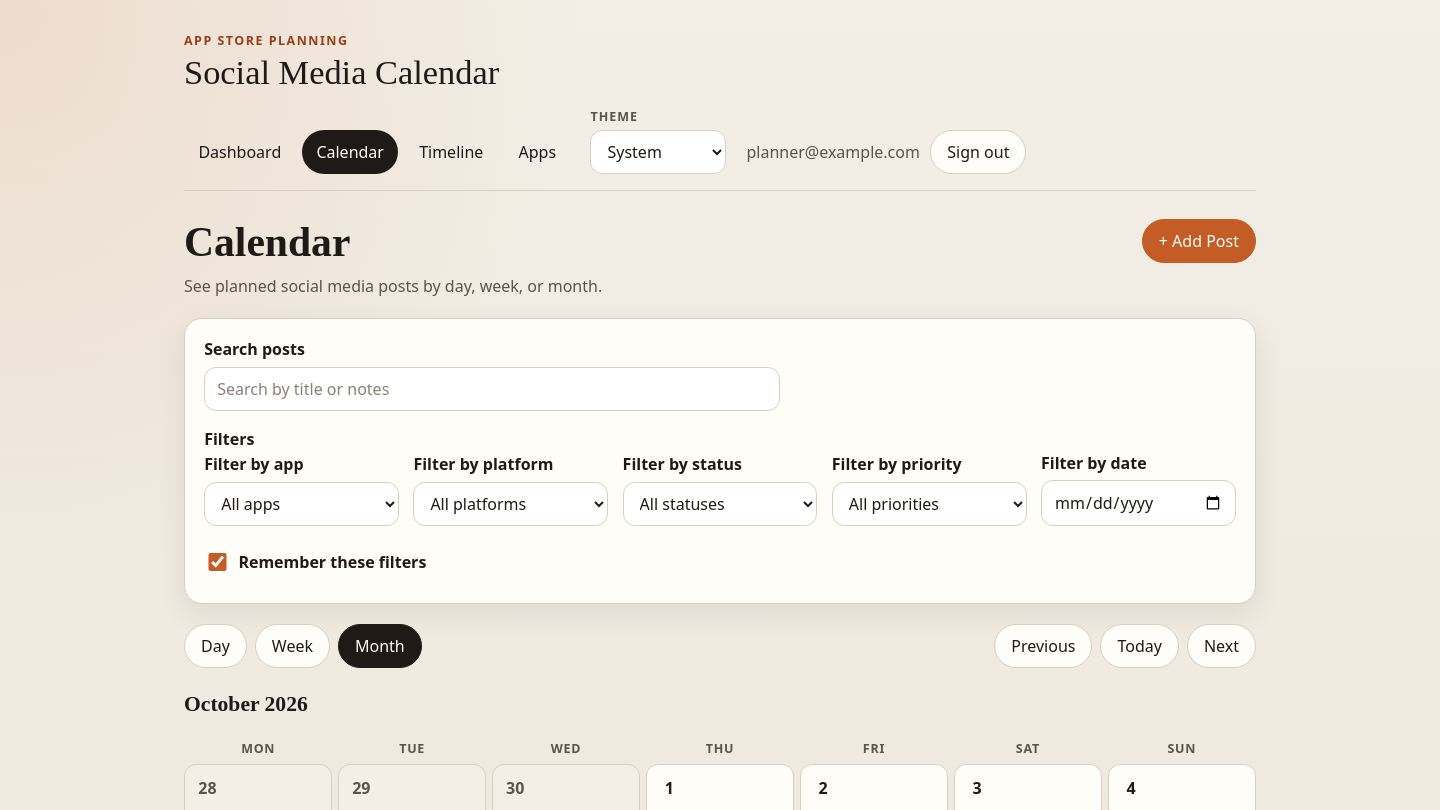
B-012 filter and search posts › says when the calendar has no matching posts
Select "YouTube" in the dropdown labelled "Filter by platform" at (511, 504), box 413,482 -> 608,526
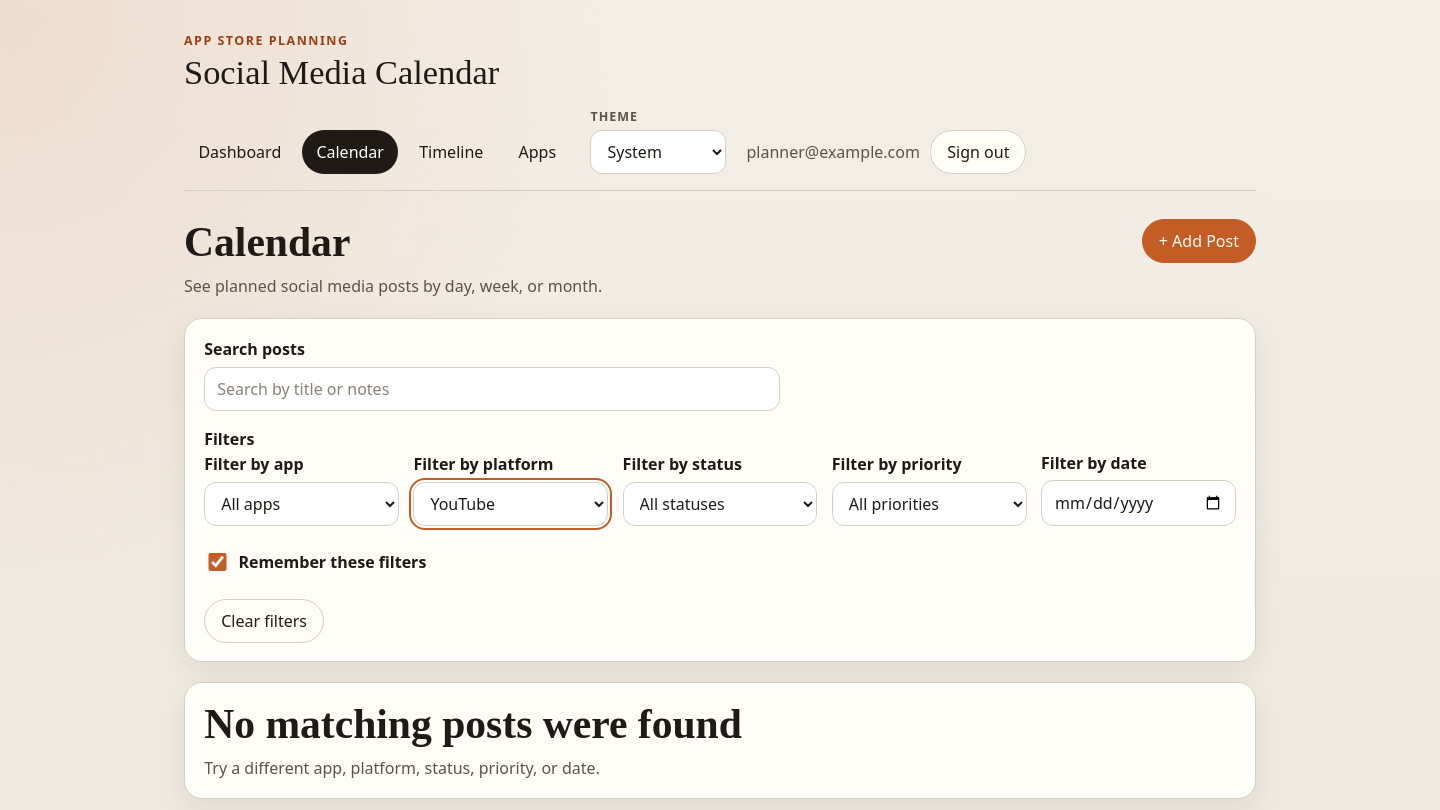
Expected: the heading "No matching posts were found" is shown, 204,701 -> 742,747
